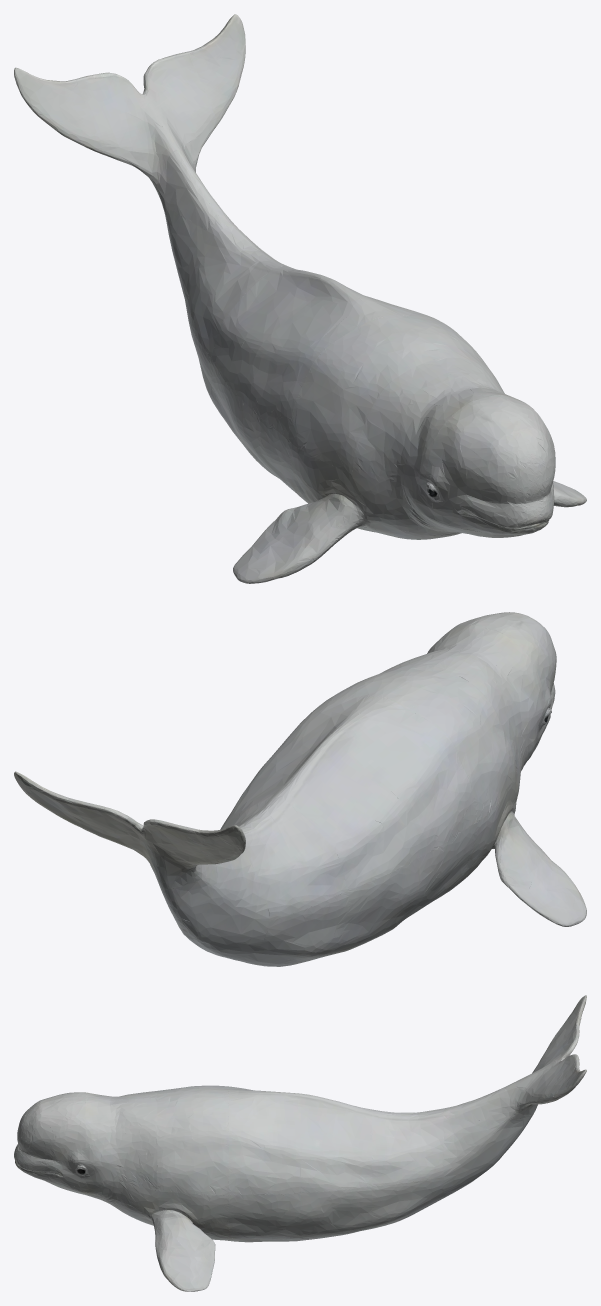
The model's file is beluga.glb.
3 views of the same model, one above another, from view 1: azimuth 30°, elevation 25°; view 2: azimuth 150°, elevation 25°; view 3: azimuth 270°, elevation 25° (orthographic). The views are drawn at different scales.
Parts seen in each view (by area): view 1: geometry_0; view 2: geometry_0; view 3: geometry_0.
Boxes of the visible parts, bbox=[...] form: geometry_0: bbox=[14, 14, 586, 583]; geometry_0: bbox=[14, 612, 586, 966]; geometry_0: bbox=[14, 995, 586, 1291].
Size of the model in its own units: 0.482 by 0.389 by 1.
1 material, 1 textured.
